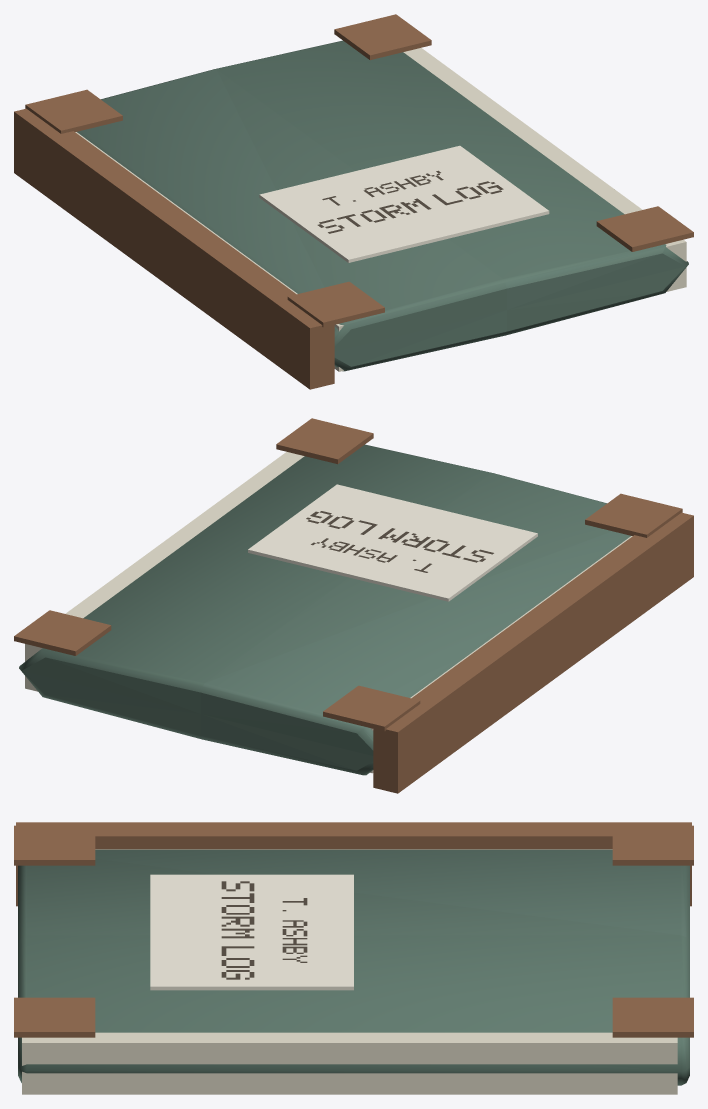
File: storm_logbook_a.glb
3 views of the same model, one above another, from view 1: azimuth 30°, elevation 25°; view 2: azimuth 150°, elevation 25°; view 3: azimuth 270°, elevation 25° (orthographic). The views are drawn at different scales.
Parts seen in each view (by area): view 1: body; view 2: body; view 3: body.
Part boxes in pixels (x1,y1,x2,y2): body: [14, 14, 693, 389]; body: [14, 418, 693, 793]; body: [14, 822, 693, 1094].
Size of the model in its own units: 0.248 by 0.04 by 0.334.
